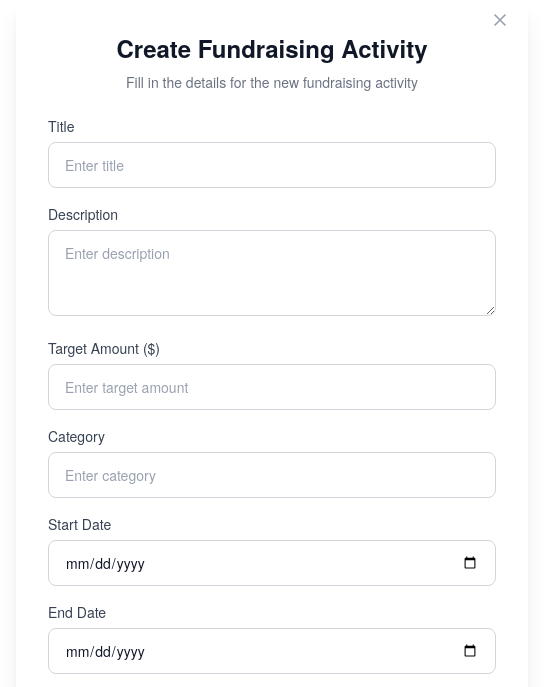
Test case: CreateFundraisingActivityPage › blocks submission when target amount is zero
Type "Help the Community" into the field labelled "Title" at [272, 165], box [48,142,496,188]
Type "A great cause." into the text box labelled "Description" at [272, 273], box [48,230,496,316]
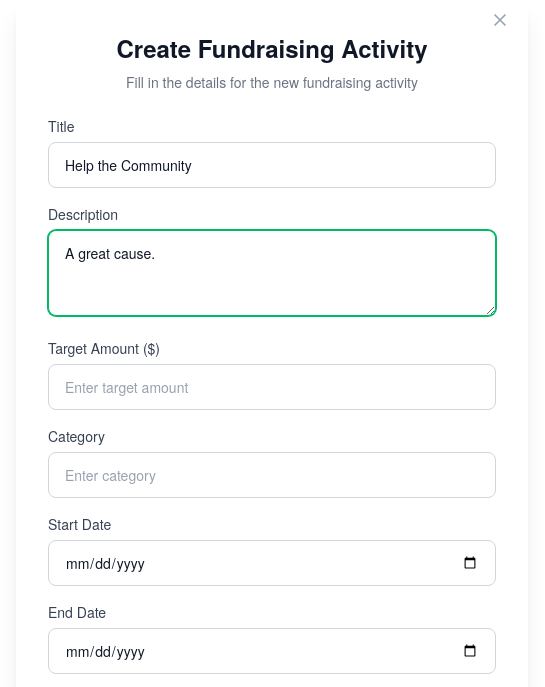
Type "0" into the number field labelled "Target Amount ($)" at [272, 387], box [48,364,496,410]
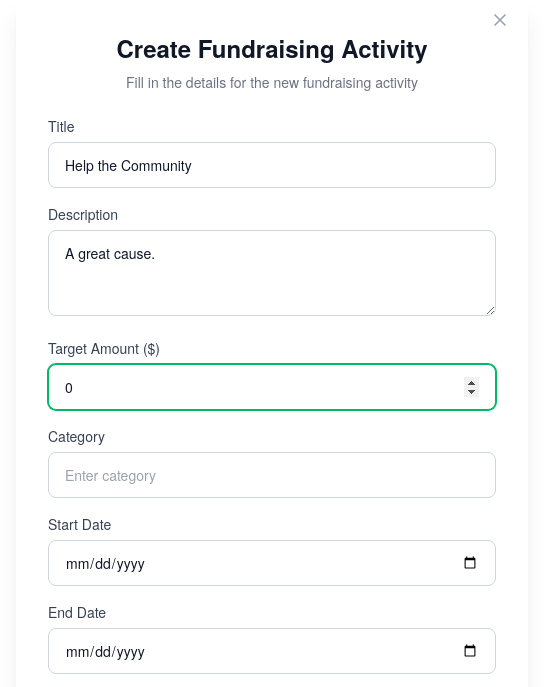
Type "Community" into the field labelled "Category" at [272, 475], box [48,452,496,498]
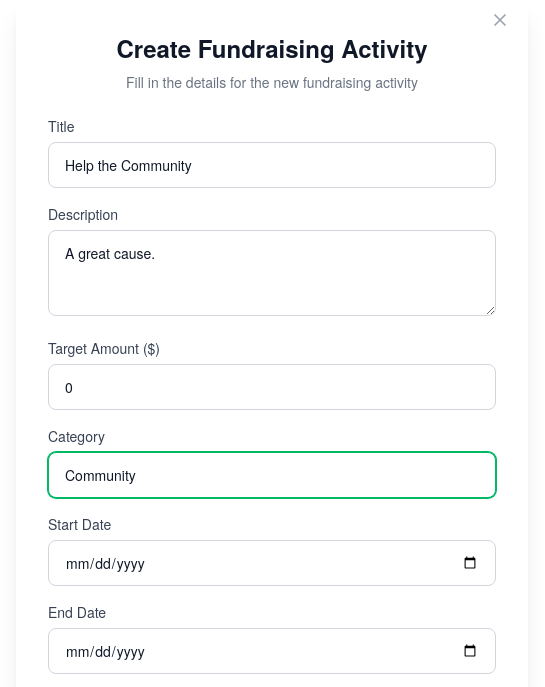
Type "2026-05-01" into the date field labelled "Start Date" at [272, 563], box [48,540,496,586]
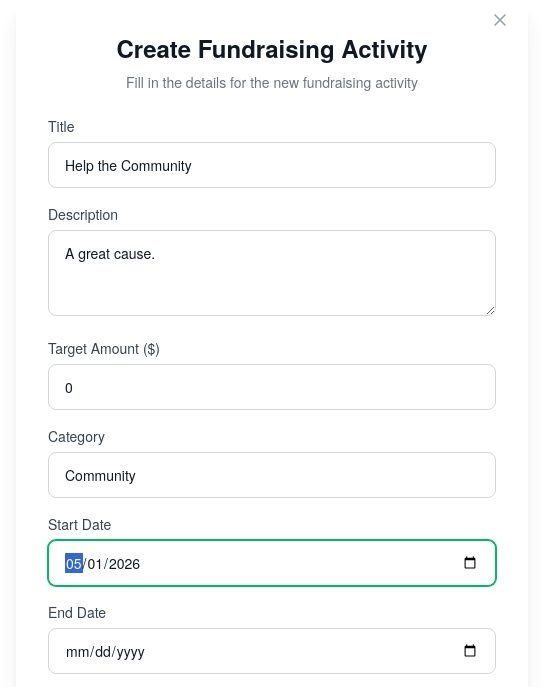
Type "2026-06-01" into the date field labelled "End Date" at [272, 651], box [48,628,496,674]
(page scrolled)
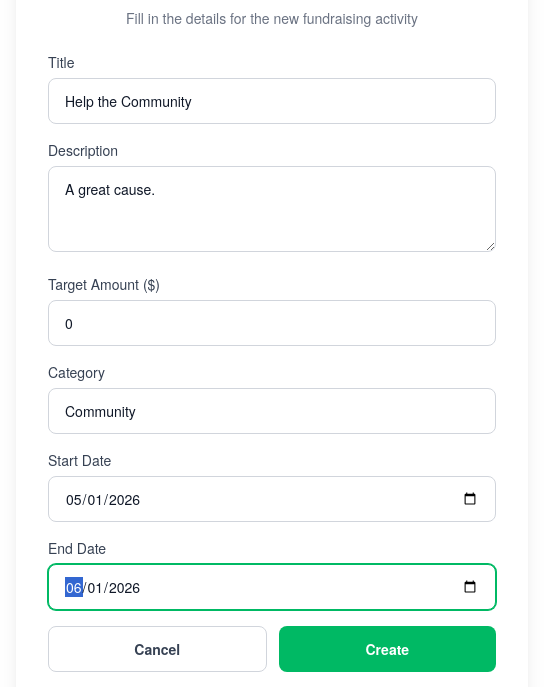
Click the button "Create" at [387, 649], box [278,626,496,672]
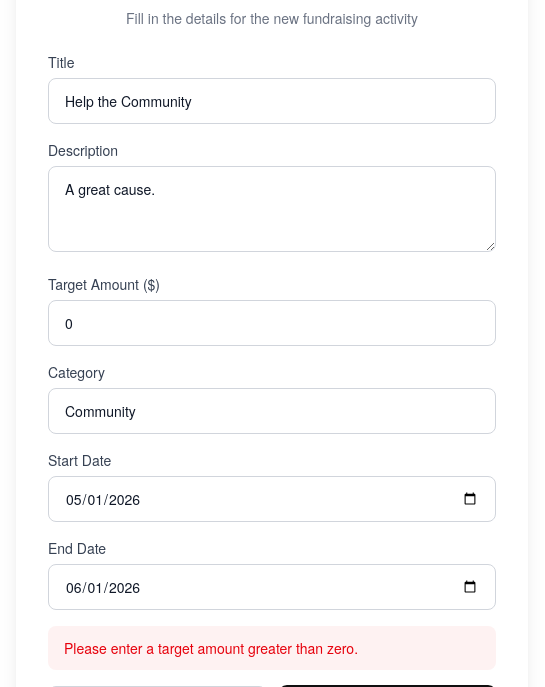
Check: the text "Please enter a target amount greater than zero." is shown, box [64,638,358,658]
